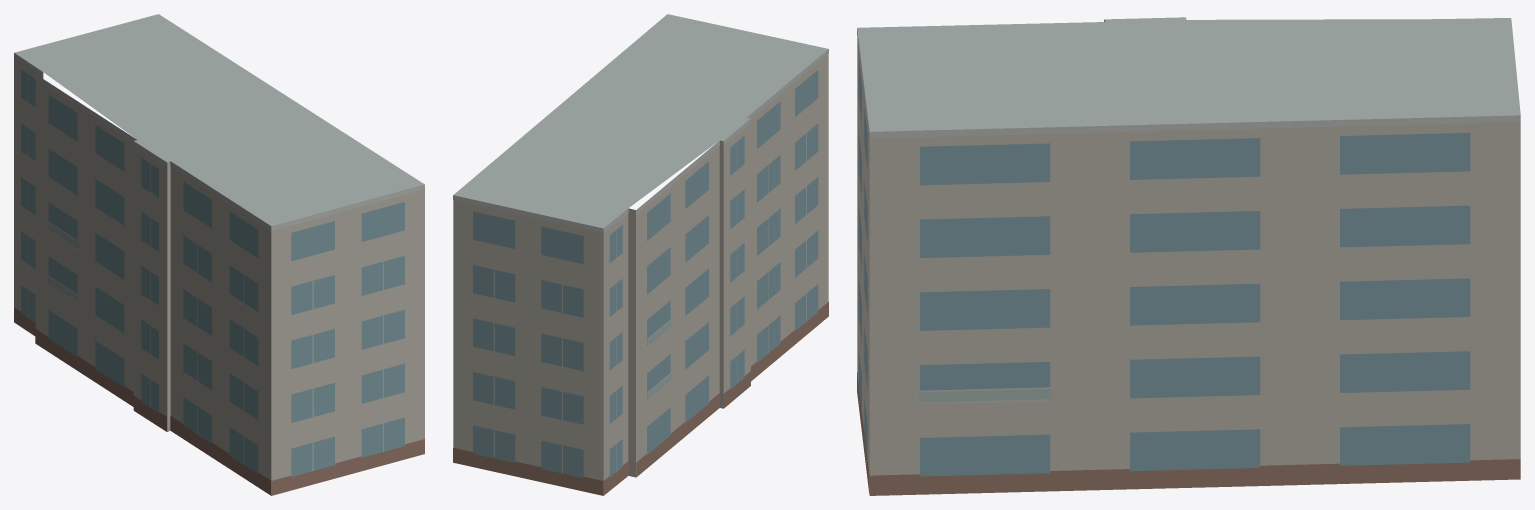
File: survey-upis-32701669.glb
3 renders of one model, left to right at view 1: azimuth 30°, elevation 25°; view 2: azimuth 150°, elevation 25°; view 3: azimuth 270°, elevation 25°, orthographic. The views are drawn at different scales.
Parts seen in each view (by area): view 1: survey-upis-32701669.tmp; view 2: survey-upis-32701669.tmp; view 3: survey-upis-32701669.tmp.
Boxes of the visible parts, <box> form: survey-upis-32701669.tmp: <box>14,14,424,495</box>; survey-upis-32701669.tmp: <box>453,14,828,495</box>; survey-upis-32701669.tmp: <box>857,17,1520,495</box>.
Size of the model in its own units: 9.31 by 13.4 by 22.15.
